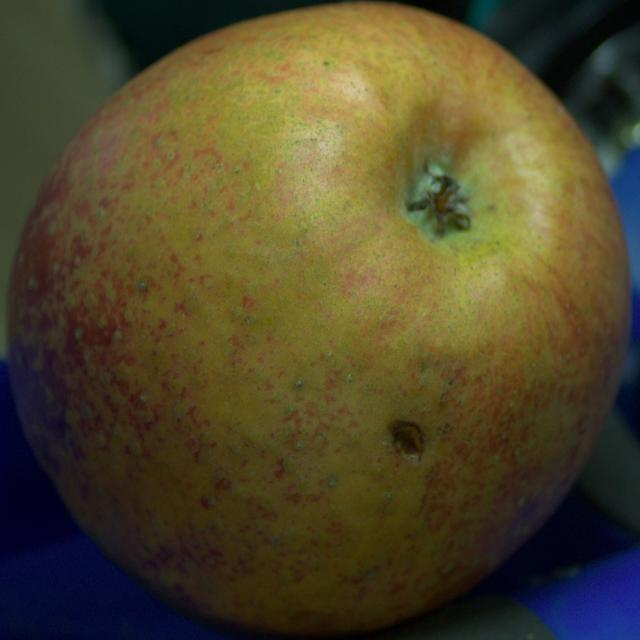apple: (7, 2, 631, 634)
scratch: (392, 421, 422, 461)
